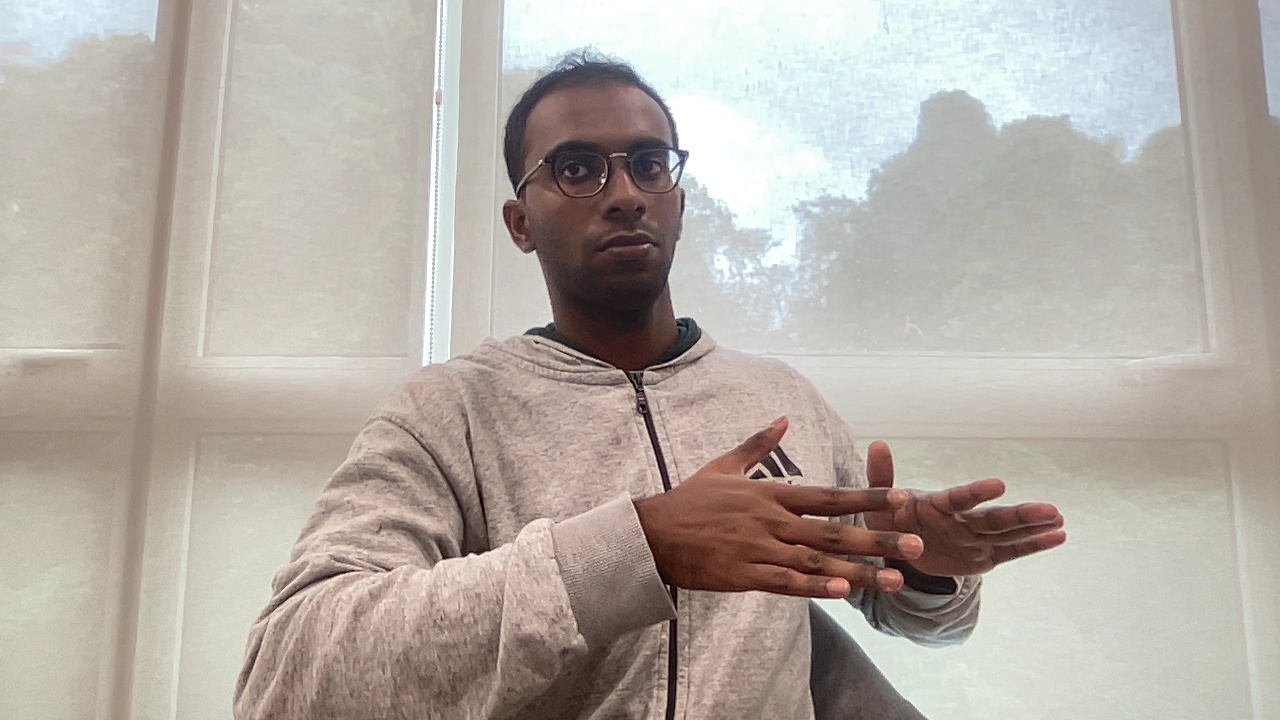finish: (656, 410, 1083, 608)
